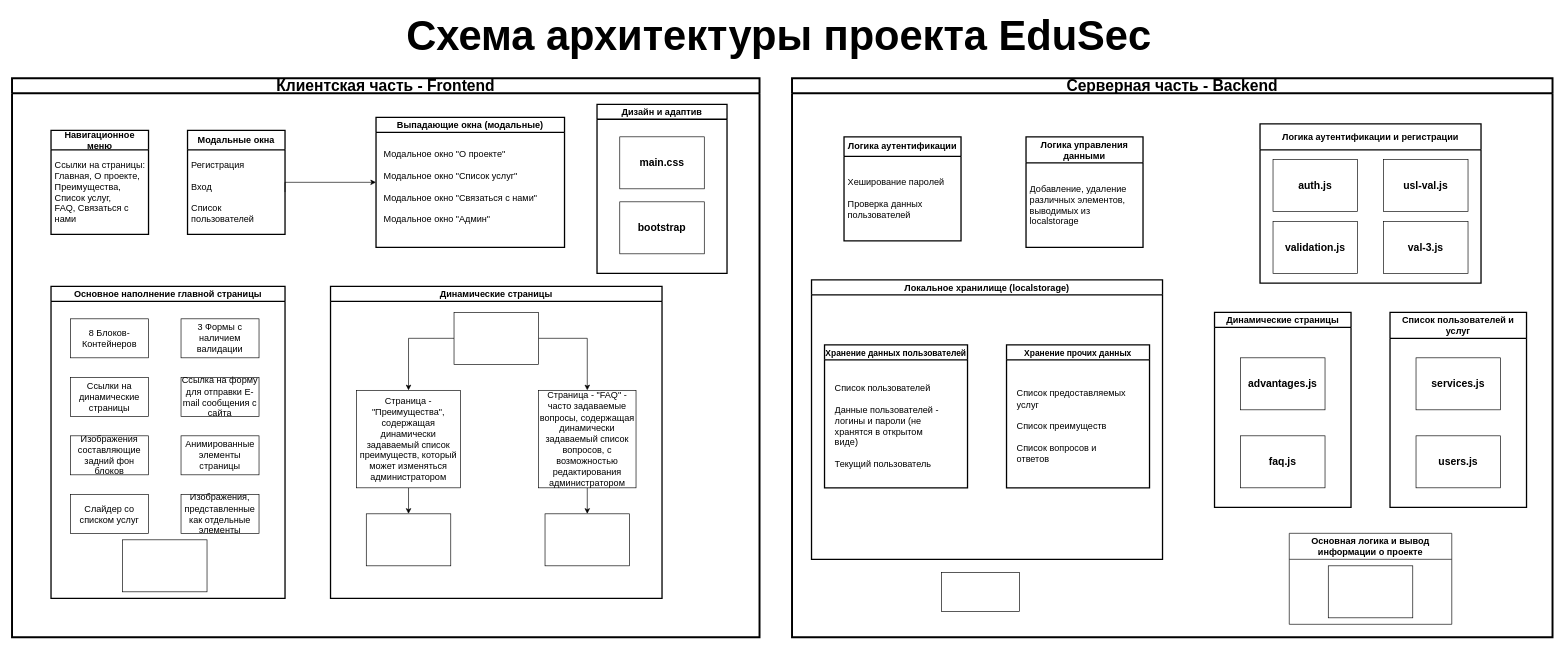
Image size: 1565x649. Some labels were removed from this diagram. Here are the shapes that lost their labels. From the top down, the centre of each, then its label:
At pixel 496 338: "Ссылки на страницы внизу страницы (footer)".
At pixel 408 539: "advantages.html".
At pixel 587 539: "faq.html".
At pixel 164 565: "index.html".
At pixel 980 591: "localstorage".
At pixel 1370 591: "main.js".
